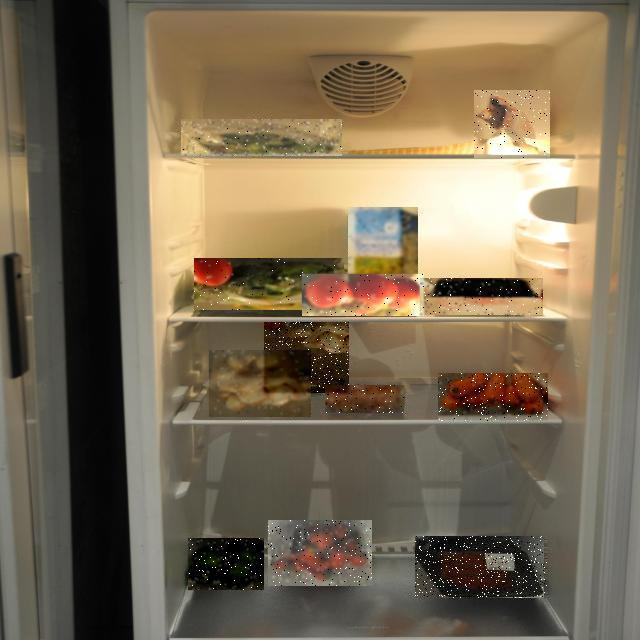Beans: (181, 119, 342, 156)
Carrot: (439, 374, 549, 422)
Flour: (264, 322, 349, 393), (474, 90, 550, 158)
Ground meat: (420, 278, 543, 315)
Lime: (188, 538, 264, 590)
Meat: (416, 536, 548, 598)
Milk: (348, 207, 418, 298)
Mushroom: (209, 350, 311, 417)
Shrimp: (325, 385, 404, 413)
Spinach: (194, 258, 344, 310)
Straw Berry: (268, 520, 372, 586)
Tomato Paste: (302, 274, 424, 316)
